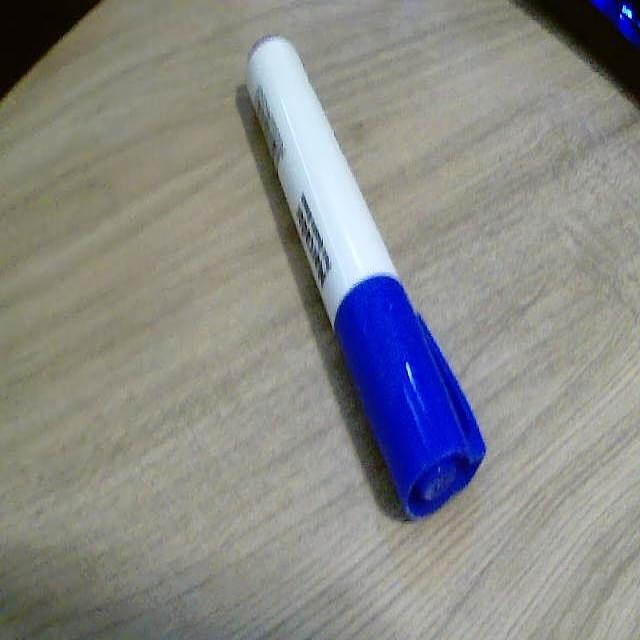caneta: (213, 25, 510, 538)
